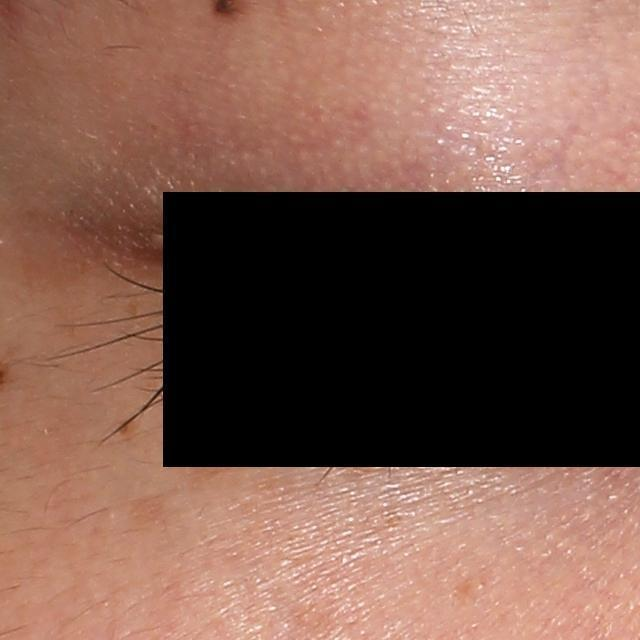melasma: (189, 441, 242, 481), (130, 493, 169, 528)
